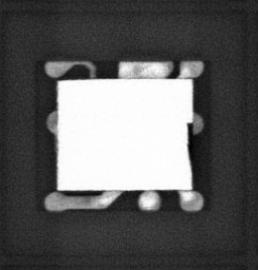DIE_BROKEN: (184, 120, 195, 174)
